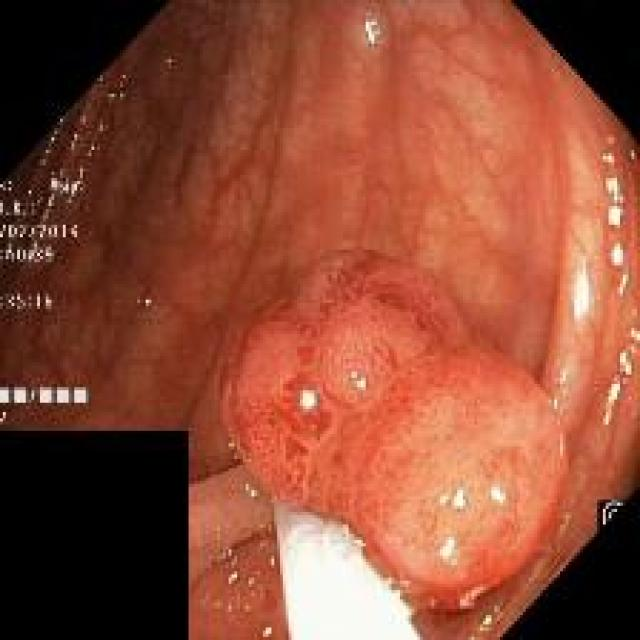Polyps: (225, 251, 568, 607)
